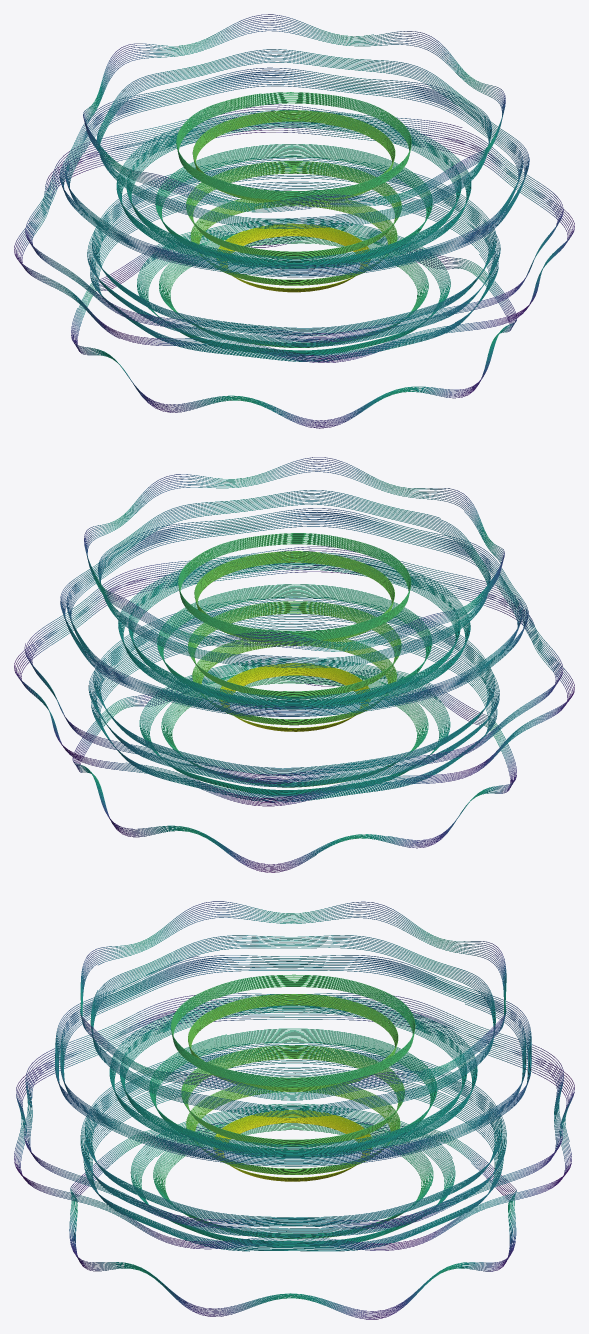
The model's file is coil_1_field_lines.gltf.
3 views of the same model, one above another, from view 1: azimuth 30°, elevation 25°; view 2: azimuth 150°, elevation 25°; view 3: azimuth 270°, elevation 25° (orthographic). The views are drawn at different scales.
Parts seen in each view (by area): view 1: Renderer Node; view 2: Renderer Node; view 3: Renderer Node.
Boxes of the visible parts, left/top/right/bottom form: Renderer Node: left=14, top=14, right=574, bottom=428; Renderer Node: left=14, top=457, right=574, bottom=872; Renderer Node: left=14, top=901, right=574, bottom=1319.
Bounding box in the file's own units: 1.07 × 0.5255 × 1.07.
1 material, 1 textured.
